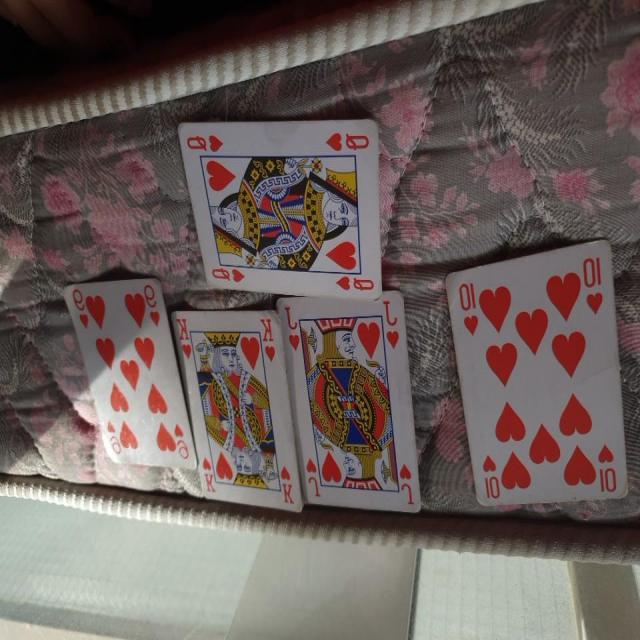10 of hearts: (442, 238, 632, 516)
9 of hearts: (59, 275, 200, 473)
jack of hearts: (276, 284, 424, 510)
king of hearts: (172, 310, 308, 518)
queen of hearts: (178, 112, 388, 294)
